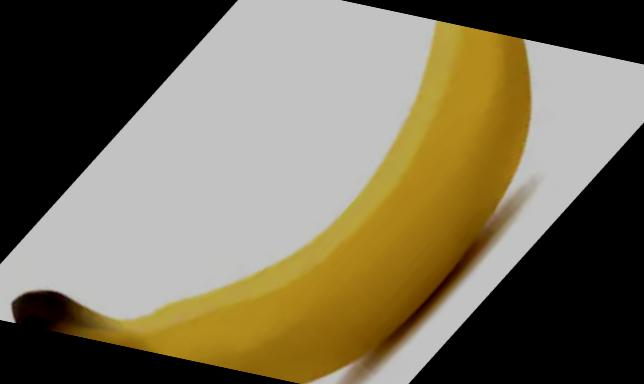Banana Ripe: (0, 0, 576, 384)
